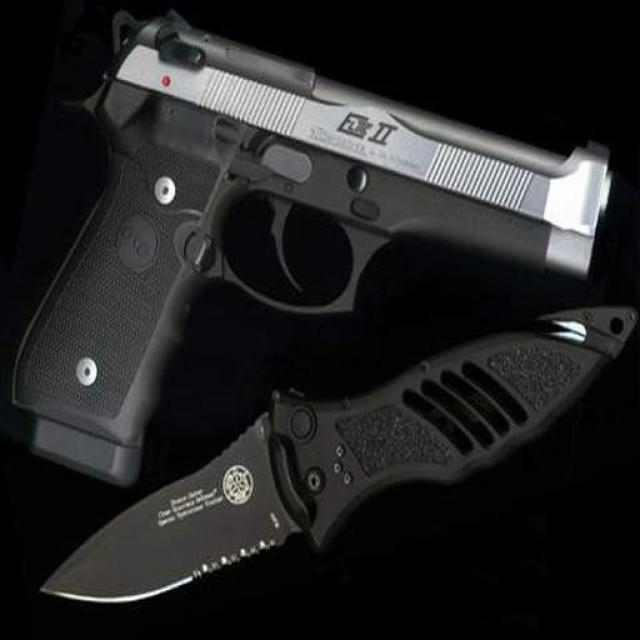pistol: (1, 8, 620, 486)
